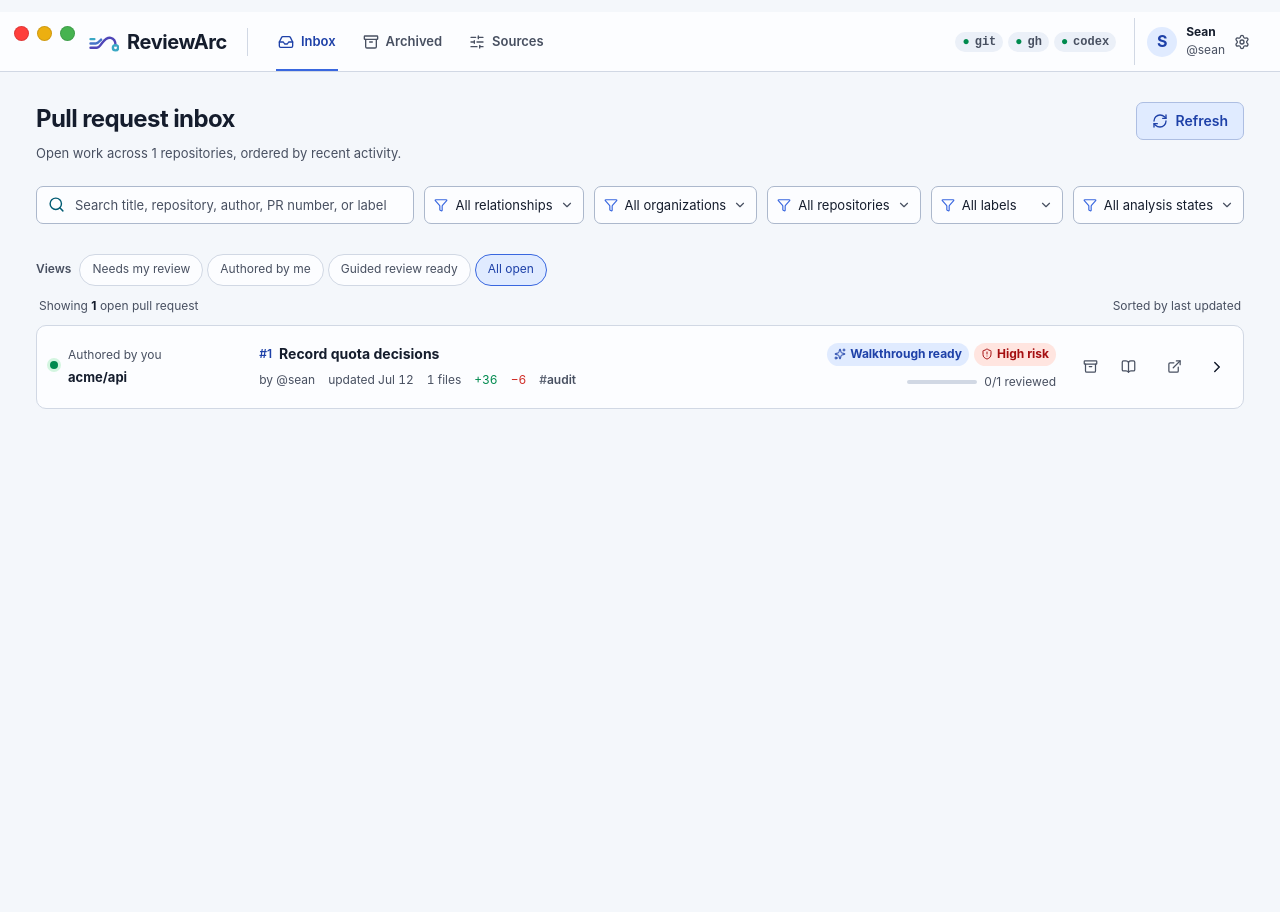
Test case: App startup › refreshes the inbox after saving sources and preserves actionable partial errors
Click the button "Sources" at x=506, y=42, box [457,12,556,71]
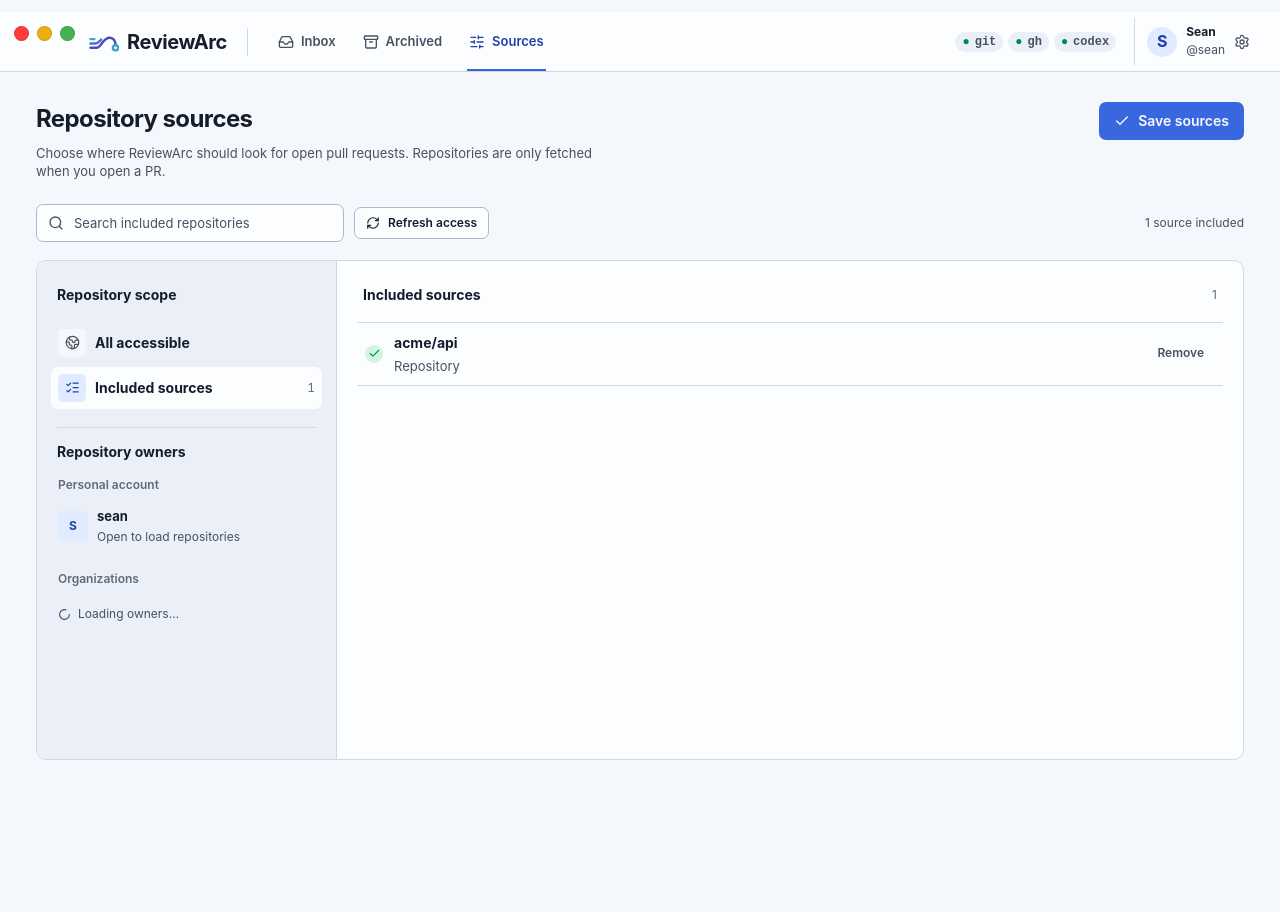
Click the button "Save sources" at x=1172, y=121, box [1099,102,1244,140]
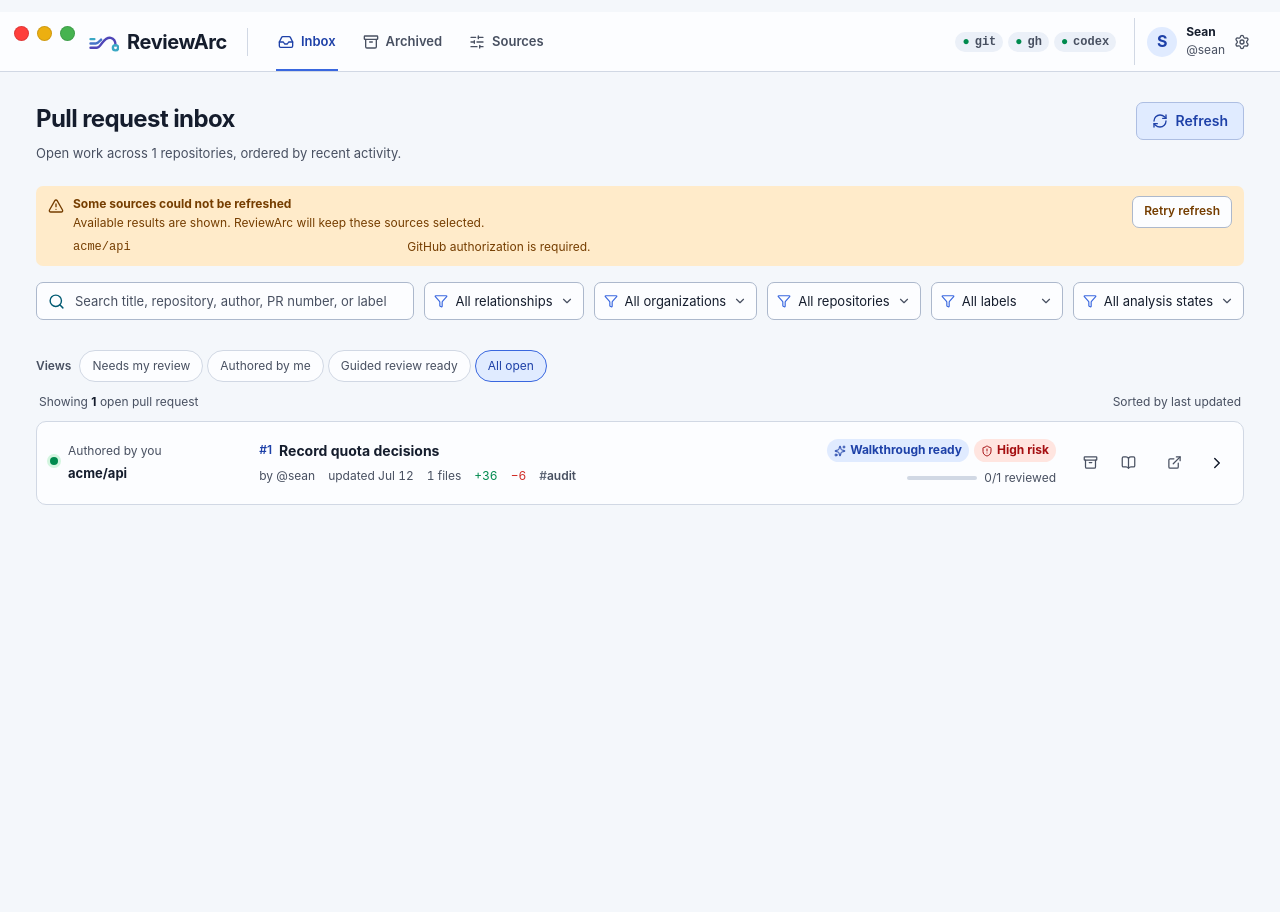
Expected: the text "Some sources could not be refreshed" is shown, [73,196,291,211]
Expected: the text "acme/api" next to "GitHub authorization is required." is shown, [73,240,131,254]
Expected: the text "GitHub authorization is required." is shown, [407,239,591,254]
